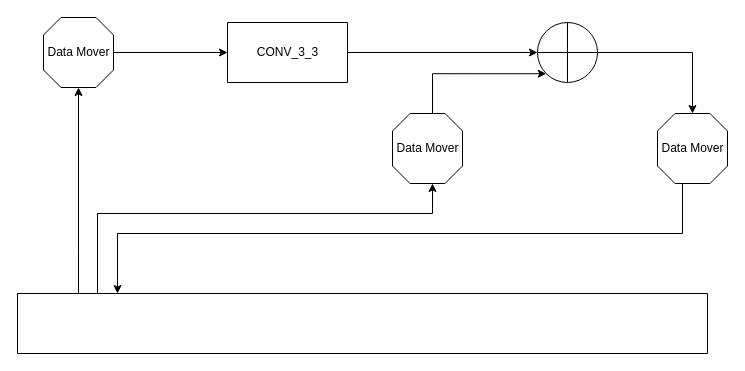
The diagram is 745 pixels wide and 371 high, and some of its shapes have lost their labels. Here are the shapes that lost their labels. From the top down, the centre of each, then its label:
At point (567, 52): "AGG".
At point (362, 323): "DRAM".
